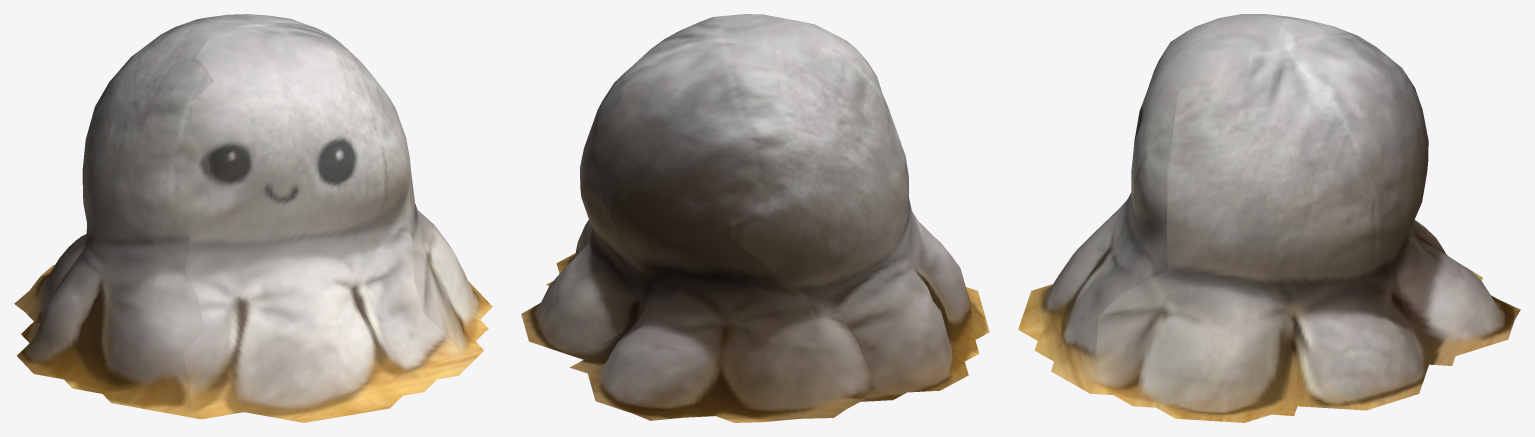
The model's file is octotestobj.fbx.
The picture shows the model from 3 angles, left to right: view 1: azimuth 30°, elevation 25°; view 2: azimuth 150°, elevation 25°; view 3: azimuth 270°, elevation 25°; orthographic projection.
Parts seen in each view (by area): view 1: meshes[0]; view 2: meshes[0]; view 3: meshes[0].
Part boxes in pixels (left/top/right/bottom): meshes[0]: left=14, top=14, right=492, bottom=422; meshes[0]: left=521, top=14, right=989, bottom=422; meshes[0]: left=1018, top=14, right=1520, bottom=422.
Bounding box in the file's own units: 17 × 11.11 × 17.44.
Materials: 1 (1 with a texture image).
